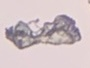microplastic: (5, 14, 82, 50)
